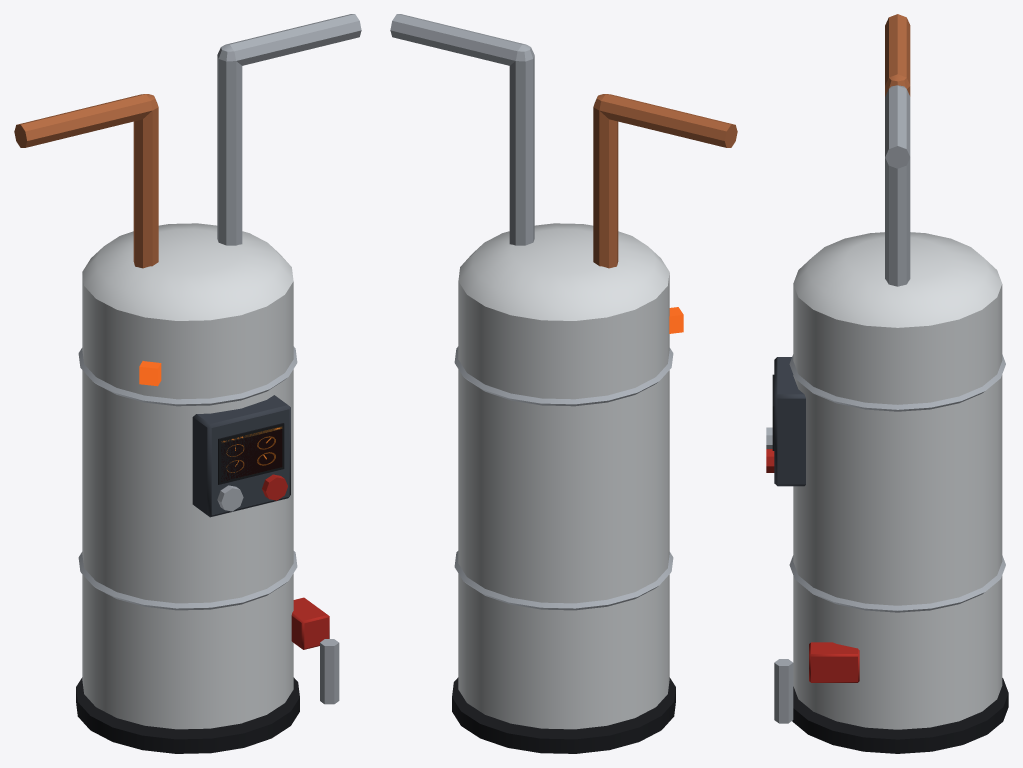
File: watertank_water_heater.glb
3 views of the same model, side by side, from view 1: azimuth 30°, elevation 25°; view 2: azimuth 150°, elevation 25°; view 3: azimuth 270°, elevation 25° (orthographic).
Parts seen in each view (by area): view 1: watertank_water_heater; view 2: watertank_water_heater; view 3: watertank_water_heater.
Boxes of the visible parts, x1,y1,x2,y2 form: watertank_water_heater: (14,14,361,753); watertank_water_heater: (390,14,737,753); watertank_water_heater: (766,14,1008,753).
Size of the model in its own units: 1.2 by 2.24 by 0.765.
8 materials, 1 textured.
